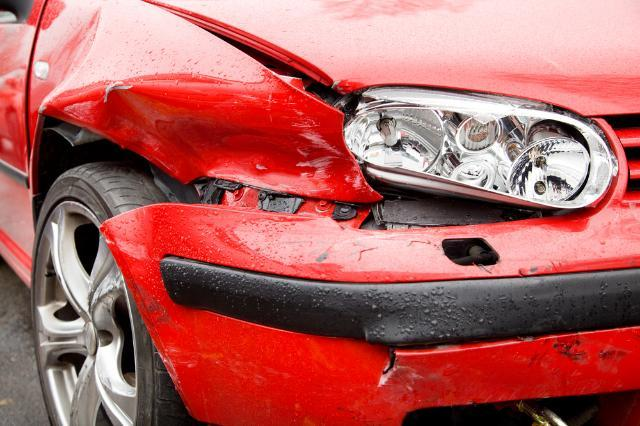crack: (379, 348, 397, 385)
dent: (38, 75, 382, 203)
dislocated part: (37, 0, 383, 229)
lamp broken: (337, 85, 616, 214)
scratch: (129, 276, 186, 392), (532, 335, 640, 362)
